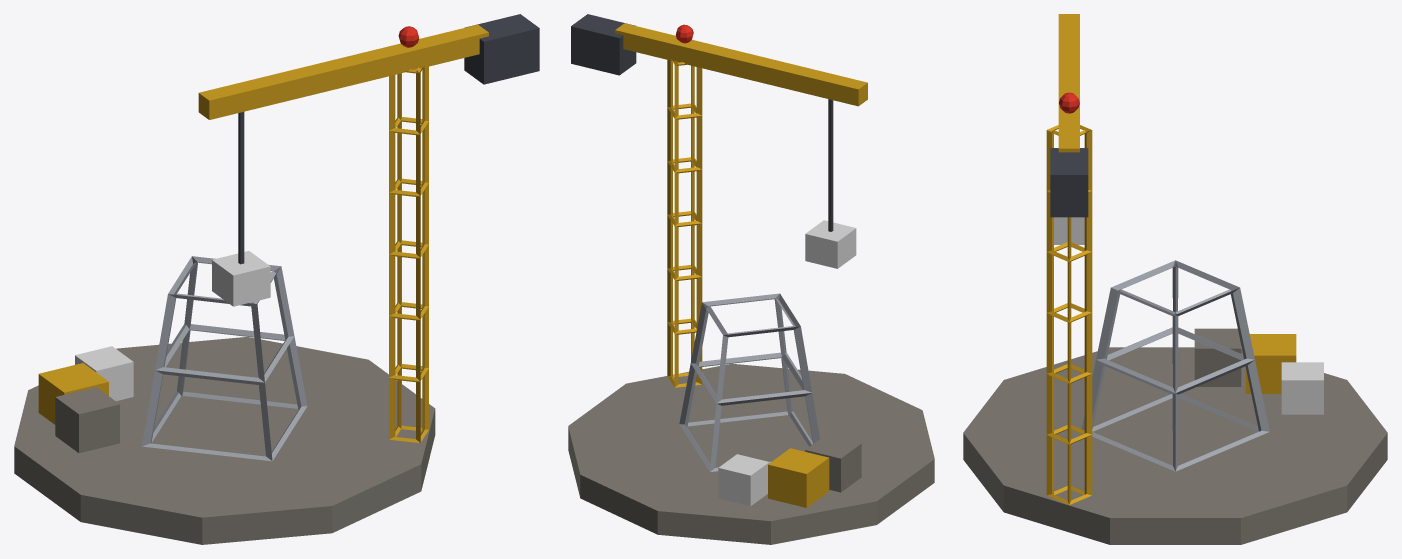
The model's file is mine_build.fbx.
3 views of the same model, side by side, from view 1: azimuth 30°, elevation 25°; view 2: azimuth 150°, elevation 25°; view 3: azimuth 270°, elevation 25° (orthographic). The views are drawn at different scales.
Visible parts, largest first — view 1: mine_build; view 2: mine_build; view 3: mine_build.
Boxes of the visible parts, box(x1,y1,x2,y2) form: mine_build: box(14, 14, 539, 544); mine_build: box(568, 14, 934, 544); mine_build: box(963, 14, 1387, 544).
Size of the model in its own units: 2.3 by 2.23 by 2.
